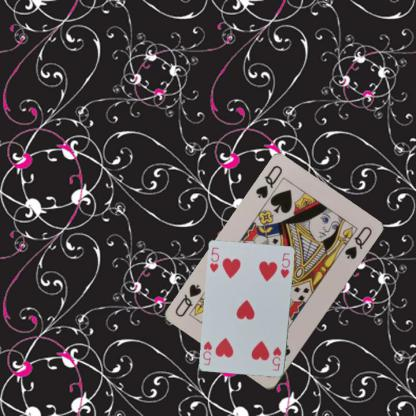5h: (207, 245, 221, 274), (270, 344, 282, 372)
Qs: (252, 163, 284, 201)
